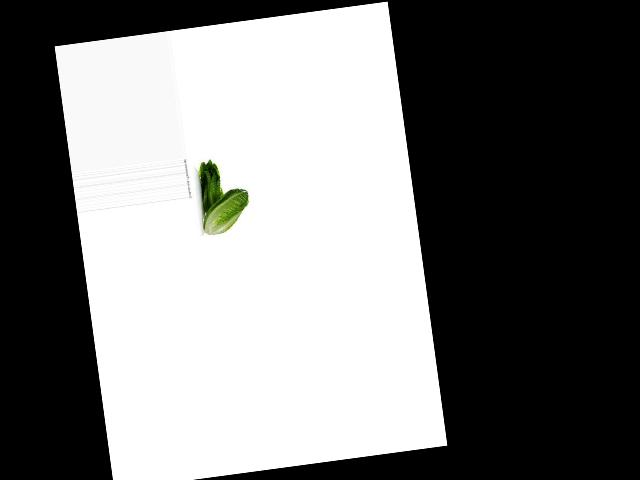lettuce: (190, 158, 230, 213)
